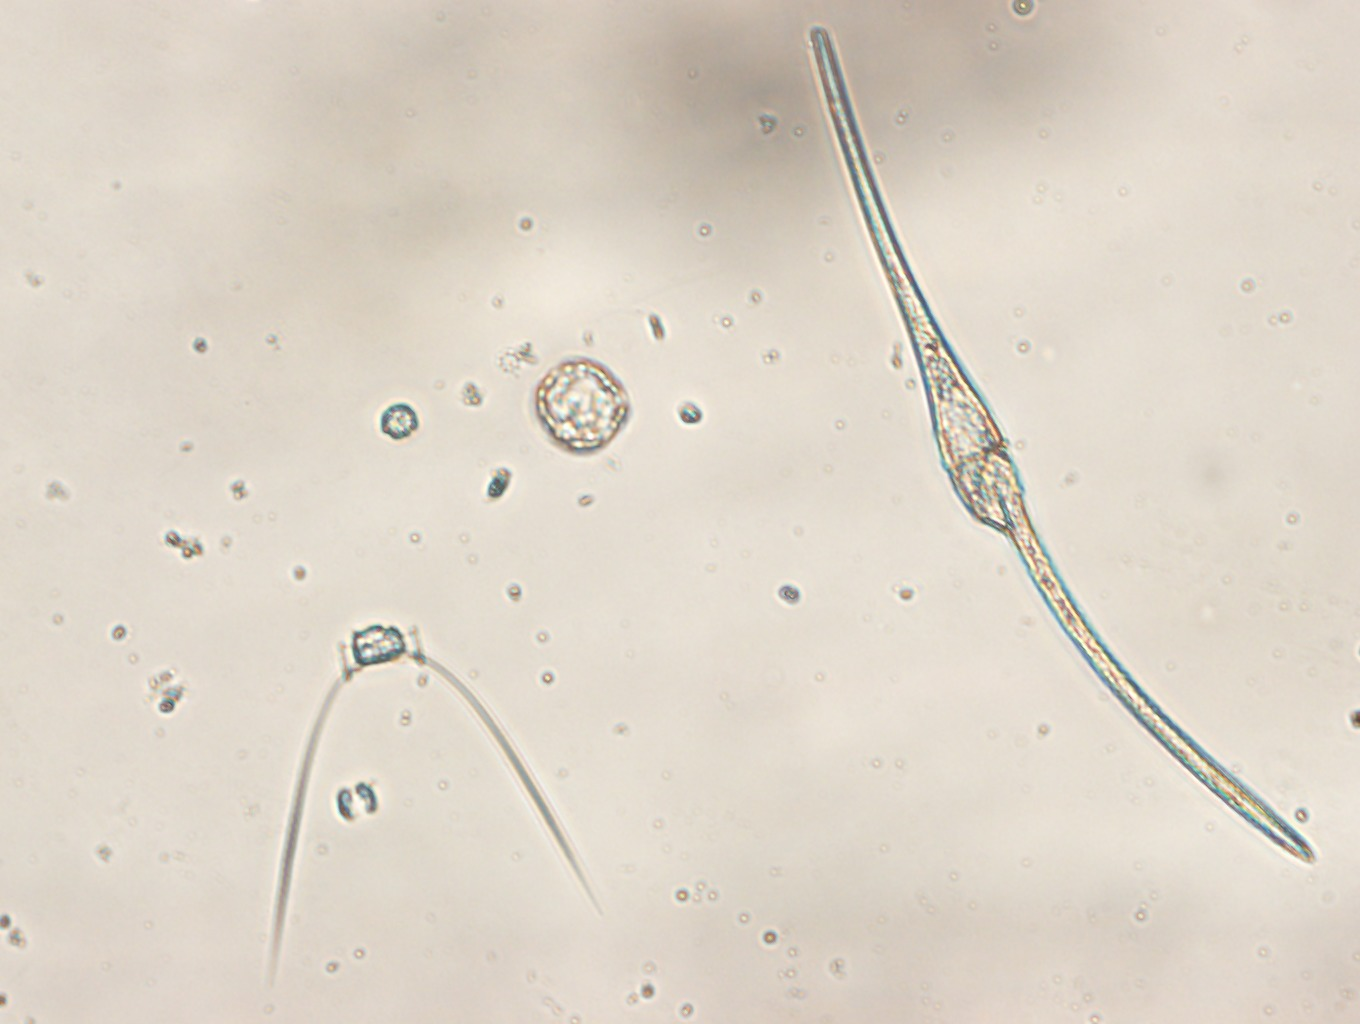ceratium fusus: (806, 28, 1317, 867)
chaetoceros: (274, 623, 601, 965)
